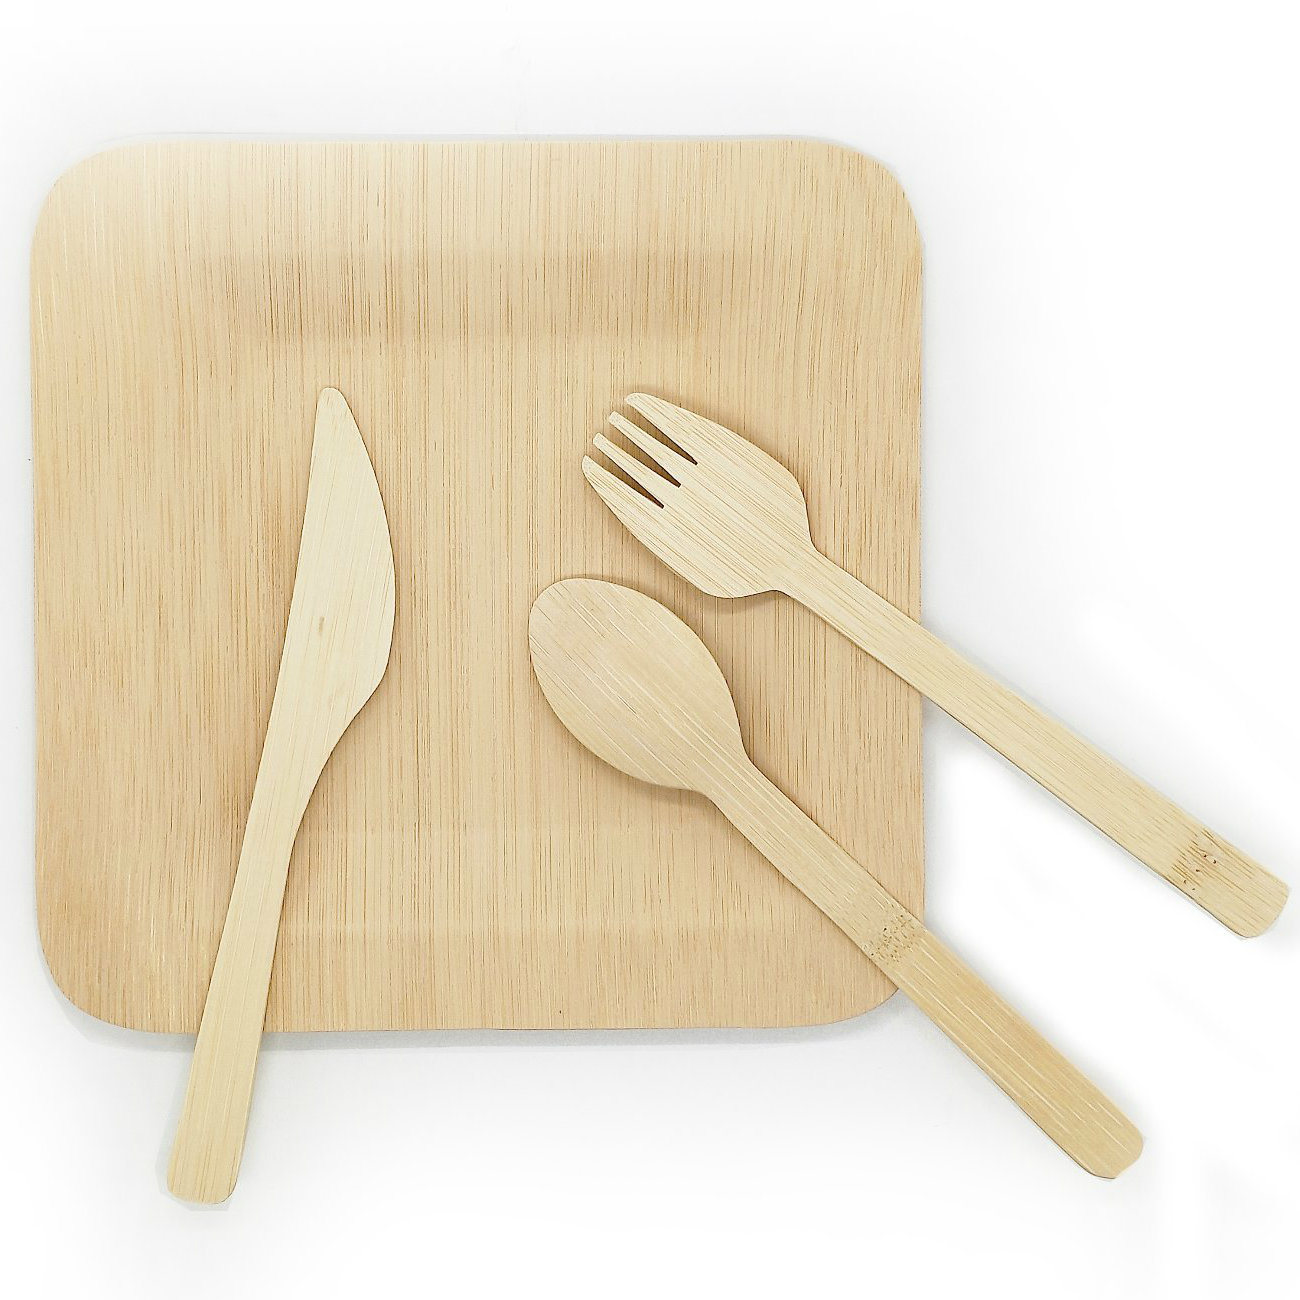Wooden Utensils: (586, 311, 1282, 982), (502, 517, 1136, 1232), (135, 374, 417, 1237)
